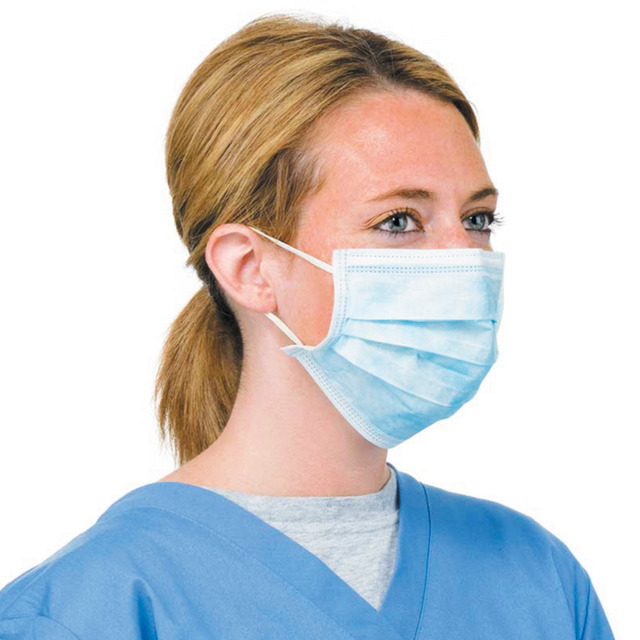mask: (317, 251, 517, 424)
